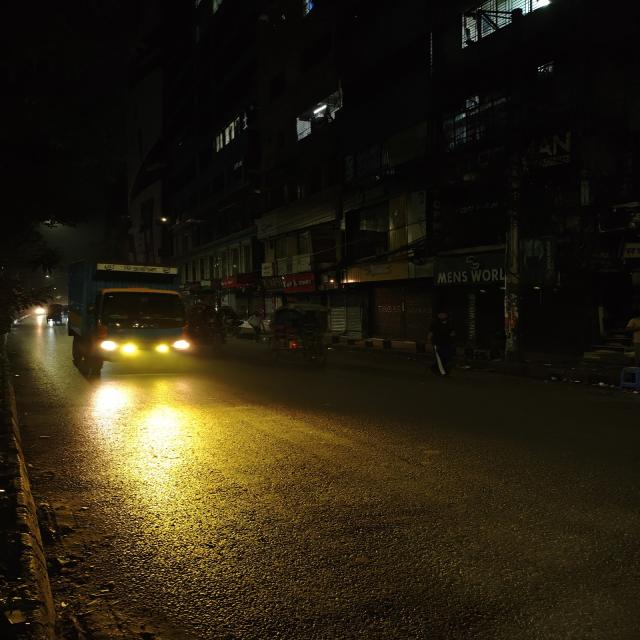pedestrian: (422, 312, 468, 381)
rickshaw: (262, 305, 333, 367), (190, 301, 228, 353), (45, 302, 65, 328)
truck: (60, 258, 196, 380)
